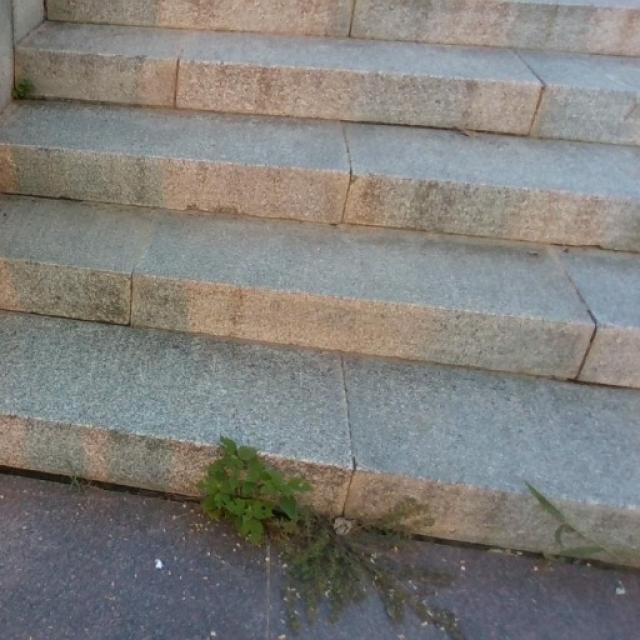Stairs: (0, 0, 639, 569)
